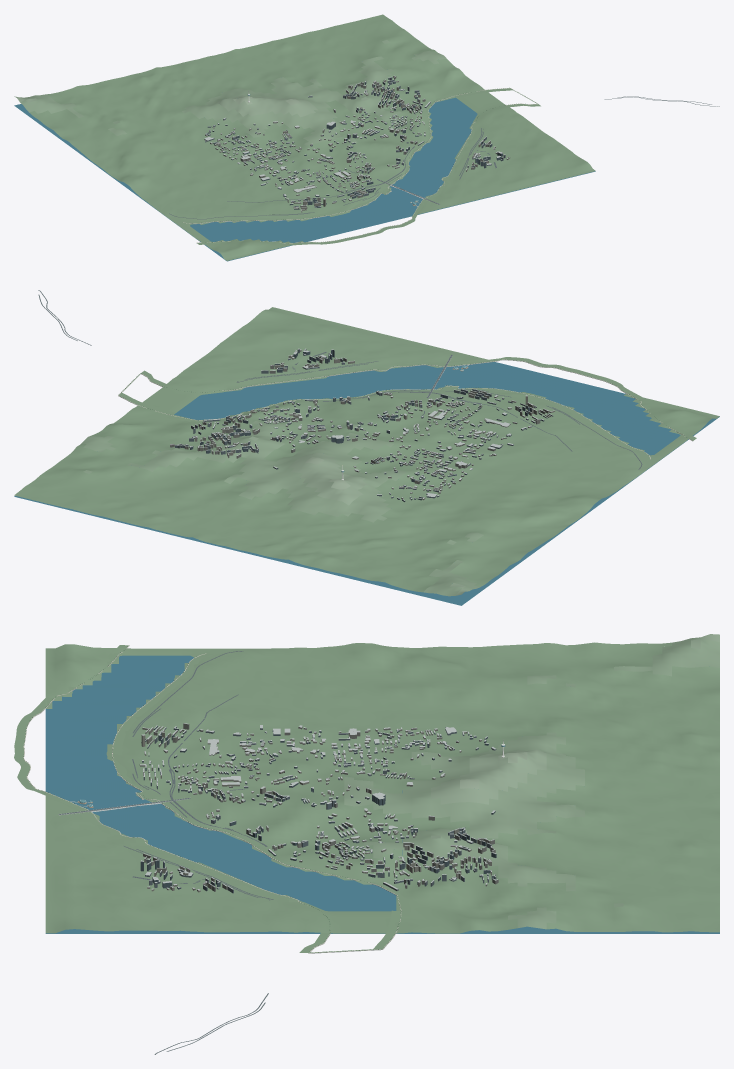
Rendered from banpo-pilot.glb.
The picture shows the model from 3 angles, top to bottom: view 1: azimuth 30°, elevation 25°; view 2: azimuth 150°, elevation 25°; view 3: azimuth 270°, elevation 25°; orthographic projection. The views are drawn at different scales.
Visible parts, largest first — view 1: SRTM north bank and Namsan, Preview river surface, SRTM north bank and Namsan.001, Mapped Seoul rooflines, Continuous bank shoulders, Mapped Seoul building facades.003, SRTM north bank and Namsan.002, Mapped Seoul building facades.002, Mapped Seoul building facades, Mapped Seoul building facades.001, North bank mapped roads, Riverside promenade; view 2: SRTM north bank and Namsan, Preview river surface, SRTM north bank and Namsan.001, Mapped Seoul rooflines, Continuous bank shoulders, SRTM north bank and Namsan.002, Mapped Seoul building facades.003, Mapped Seoul building facades.002, Mapped Seoul building facades, Mapped Seoul building facades.001, North bank mapped roads, Riverside promenade; view 3: SRTM north bank and Namsan, Preview river surface, SRTM north bank and Namsan.001, Mapped Seoul rooflines, Continuous bank shoulders, SRTM north bank and Namsan.002, Mapped Seoul building facades.002, Mapped Seoul building facades.003, Mapped Seoul building facades, Mapped Seoul building facades.001, North bank mapped roads, Riverside promenade.
Part boxes in pixels (x1,y1,x2,y2): SRTM north bank and Namsan: [29, 14, 595, 260]; Preview river surface: [14, 97, 595, 261]; SRTM north bank and Namsan.001: [20, 40, 446, 145]; Mapped Seoul rooflines: [204, 75, 509, 211]; Continuous bank shoulders: [180, 88, 540, 245]; Mapped Seoul building facades.003: [206, 81, 502, 209]; SRTM north bank and Namsan.002: [14, 95, 368, 117]; Mapped Seoul building facades.002: [205, 80, 510, 212]; Mapped Seoul building facades: [214, 76, 490, 207]; Mapped Seoul building facades.001: [204, 77, 505, 207]; North bank mapped roads: [169, 96, 719, 219]; Riverside promenade: [183, 88, 537, 243]; SRTM north bank and Namsan: [14, 307, 719, 592]; Preview river surface: [14, 362, 719, 605]; SRTM north bank and Namsan.001: [81, 421, 483, 596]; Mapped Seoul rooflines: [170, 348, 554, 500]; Continuous bank shoulders: [119, 357, 696, 461]; SRTM north bank and Namsan.002: [249, 436, 467, 595]; Mapped Seoul building facades.003: [190, 350, 553, 501]; Mapped Seoul building facades.002: [185, 350, 555, 500]; Mapped Seoul building facades: [170, 358, 545, 493]; Mapped Seoul building facades.001: [175, 349, 542, 500]; North bank mapped roads: [38, 290, 642, 469]; Riverside promenade: [118, 359, 692, 459]; SRTM north bank and Namsan: [45, 642, 719, 933]; Preview river surface: [45, 655, 719, 933]; SRTM north bank and Namsan.001: [315, 637, 719, 929]; Mapped Seoul rooflines: [140, 723, 497, 890]; Continuous bank shoulders: [14, 645, 410, 953]; SRTM north bank and Namsan.002: [431, 634, 719, 838]; Mapped Seoul building facades.002: [141, 726, 491, 892]; Mapped Seoul building facades.003: [140, 726, 496, 891]; Mapped Seoul building facades: [139, 723, 498, 891]; Mapped Seoul building facades.001: [141, 727, 496, 893]; North bank mapped roads: [124, 651, 273, 1054]; Riverside promenade: [23, 645, 401, 953].
Bounding box in the file's own units: 10091 × 477 × 7330.
Materials: 30 (4 with a texture image).
